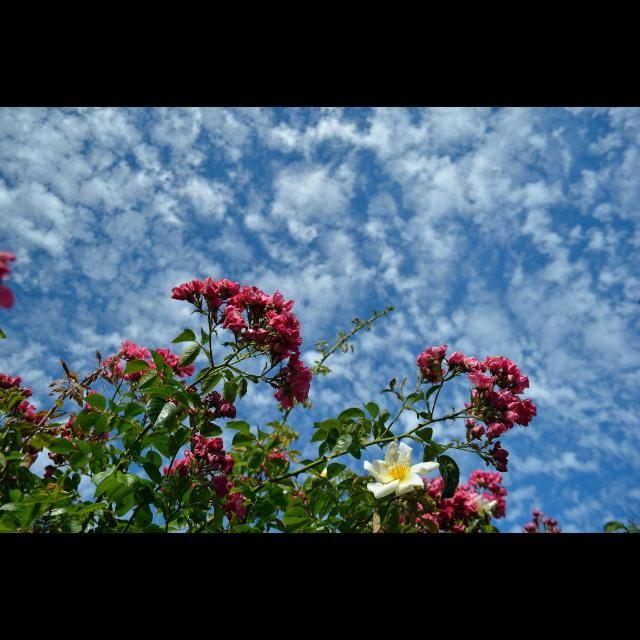Flower: (0, 249, 560, 533), (366, 452, 432, 508)
